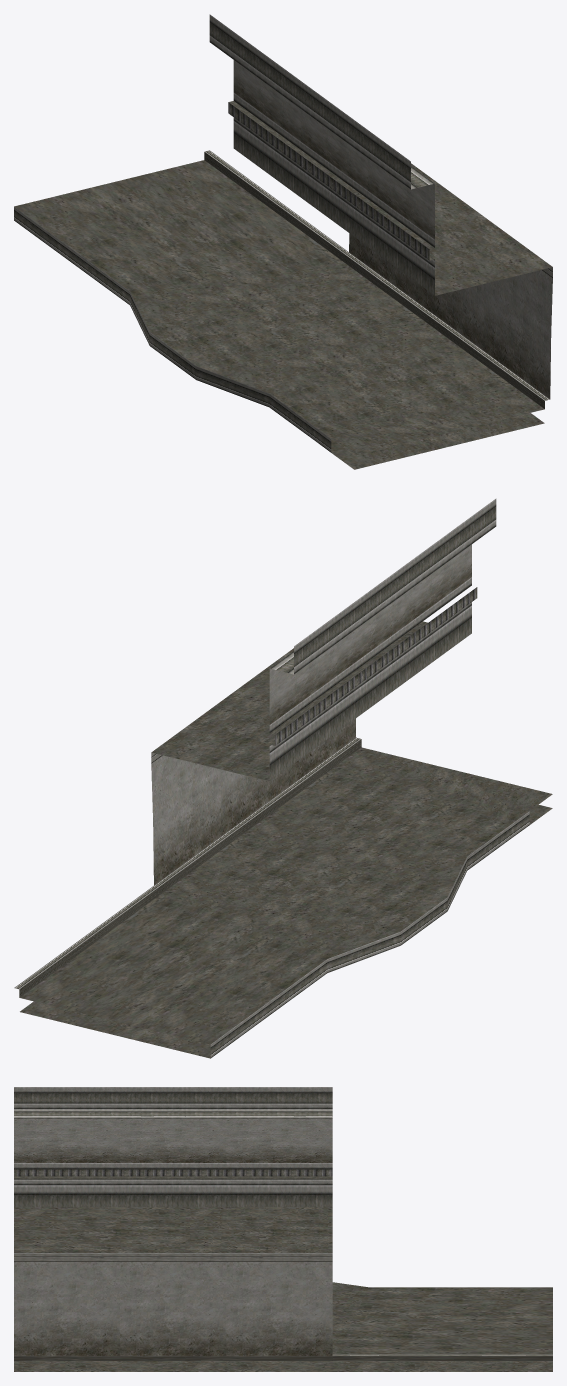
The model's file is DWARF_PALACE_ARKENSTONE_ROOM_BACKWALLE.fbx.
3 renders of one model, top to bottom at view 1: azimuth 30°, elevation 25°; view 2: azimuth 150°, elevation 25°; view 3: azimuth 270°, elevation 25°, orthographic. The views are drawn at different scales.
Parts seen in each view (by area): view 1: DWARF_PALACE_ARKENSTONE_ROOM_BACKWALLE; view 2: DWARF_PALACE_ARKENSTONE_ROOM_BACKWALLE; view 3: DWARF_PALACE_ARKENSTONE_ROOM_BACKWALLE.
Boxes of the visible parts, x1,y1,x2,y2 form: DWARF_PALACE_ARKENSTONE_ROOM_BACKWALLE: (14, 14, 552, 469); DWARF_PALACE_ARKENSTONE_ROOM_BACKWALLE: (14, 498, 552, 1058); DWARF_PALACE_ARKENSTONE_ROOM_BACKWALLE: (14, 1087, 552, 1371).
Size of the model in its own units: 84001 by 105000 by 220004.
Materials: 5 (5 with a texture image).
